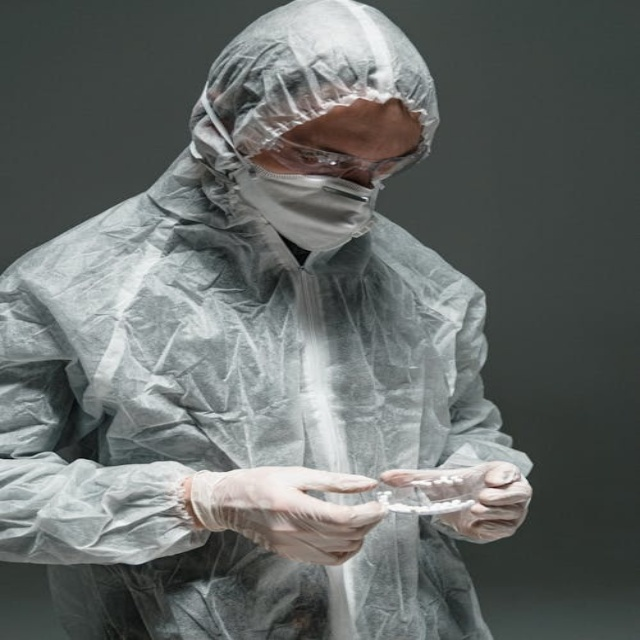Gafas: (262, 128, 418, 182)
Guantes: (186, 465, 389, 566), (383, 460, 531, 543)
Mascara: (238, 157, 384, 254)
